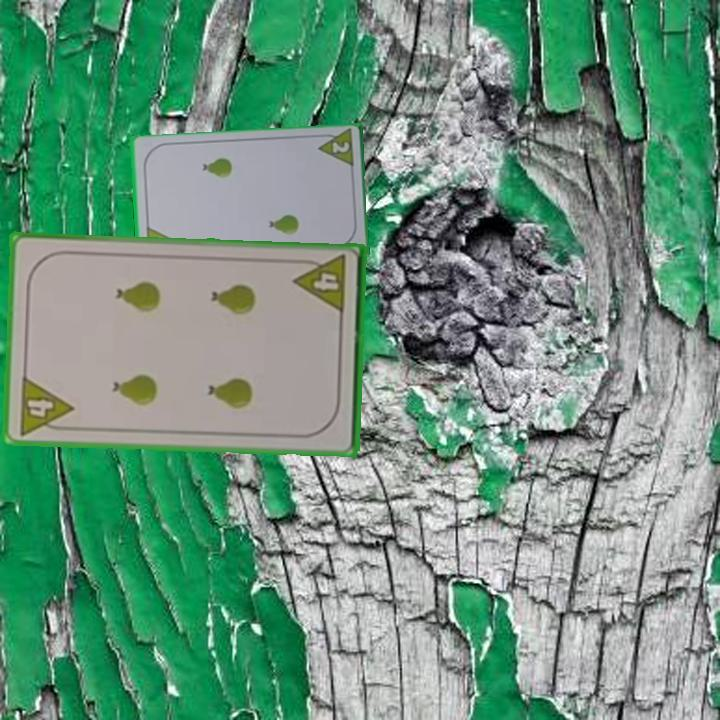2p: (328, 138, 352, 156)
4p: (15, 373, 76, 438), (291, 252, 349, 317)
